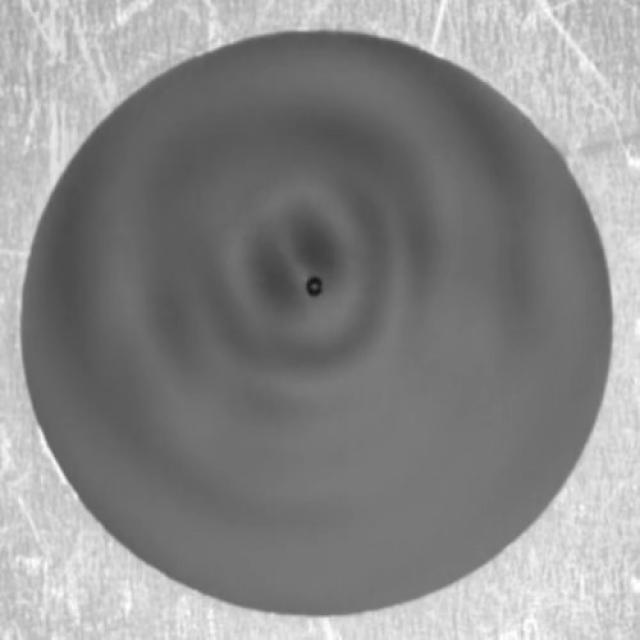droplet: (303, 274, 327, 300)
